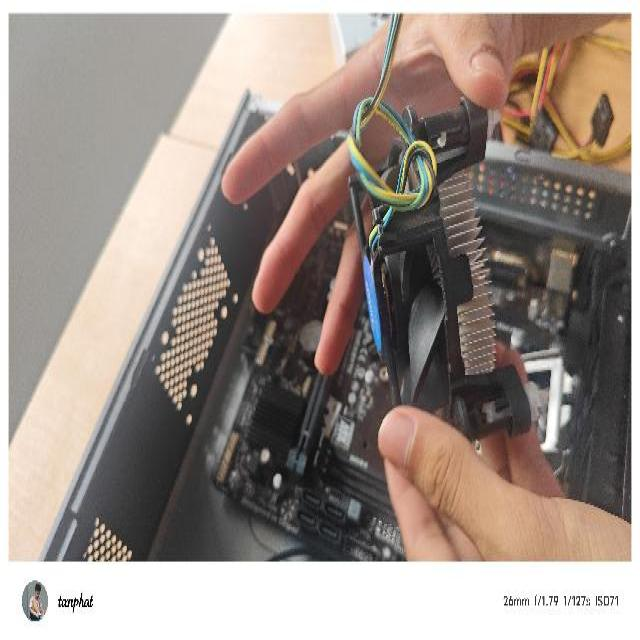CPU_Fan: (350, 92, 548, 481)
